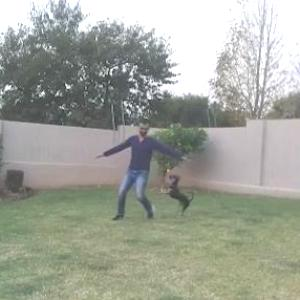land: (101, 118, 196, 230)
